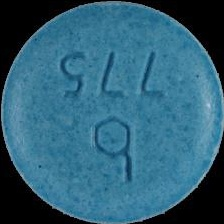0555-0775: (0, 0, 224, 224)
